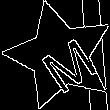M_NW: (25, 22, 94, 90)
